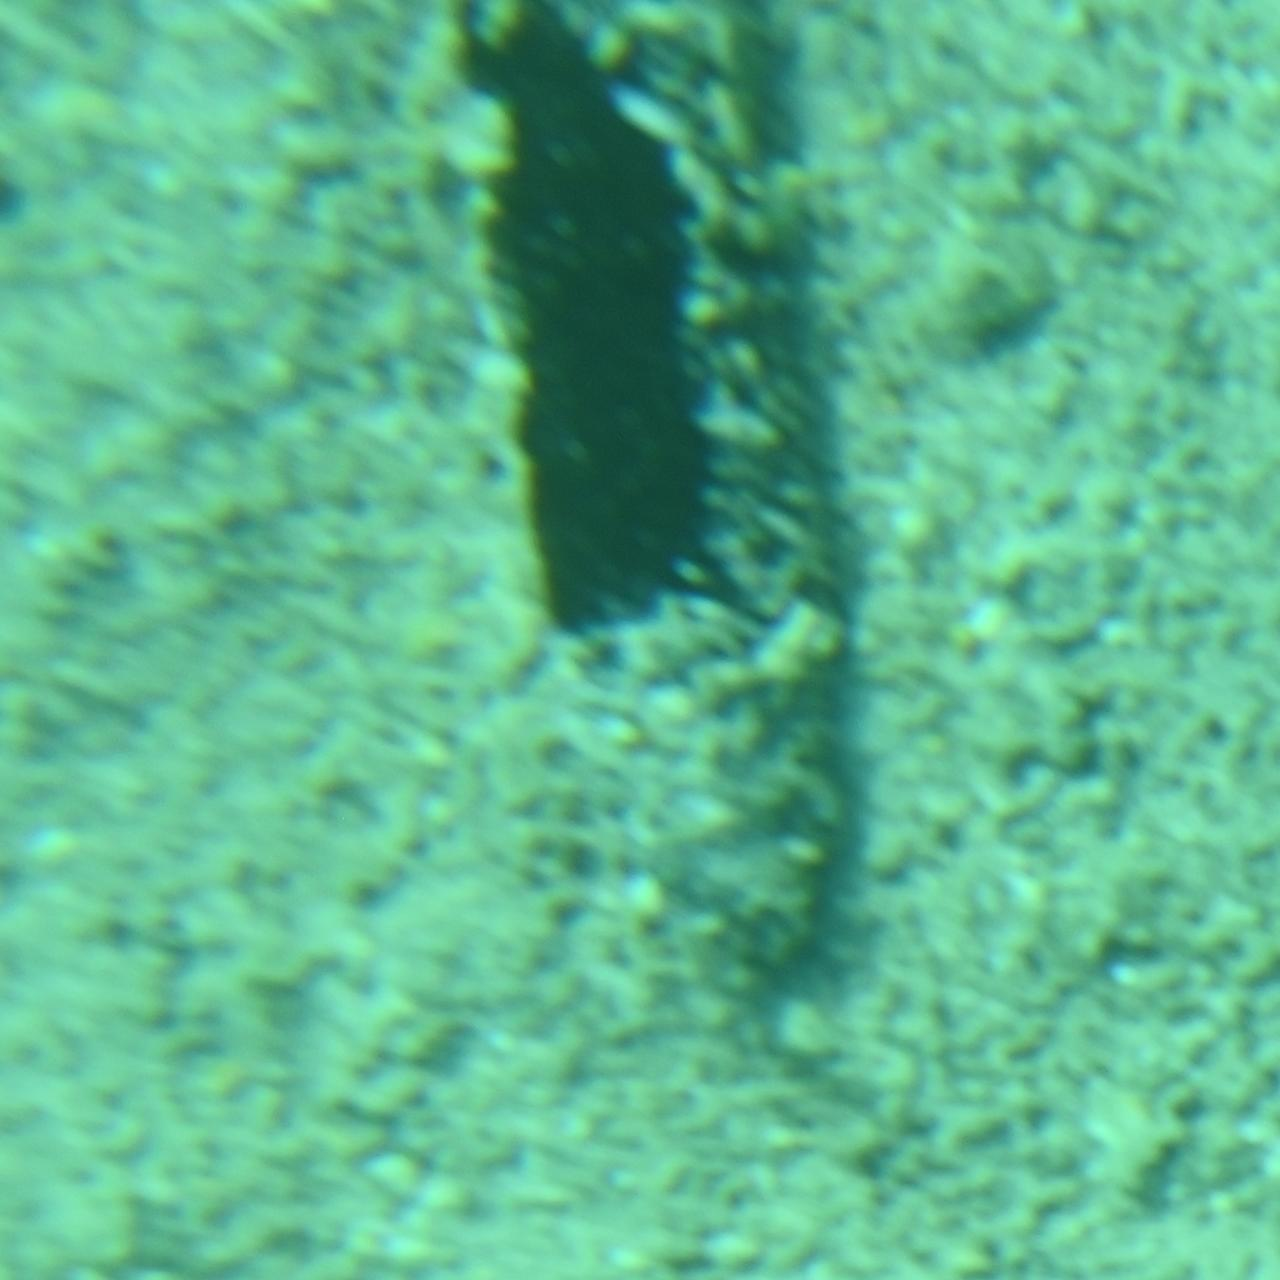Holothuria tubulosa: (390, 0, 890, 1036)
